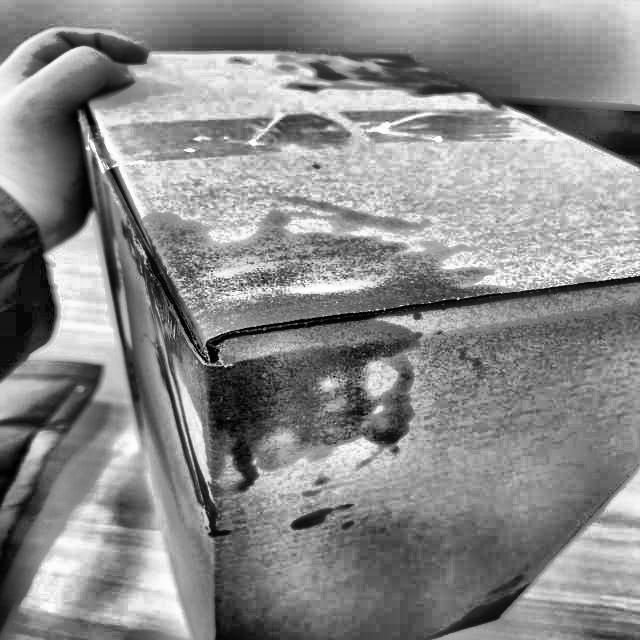box: (79, 49, 639, 639)
wet: (129, 212, 464, 511), (262, 42, 483, 104)
